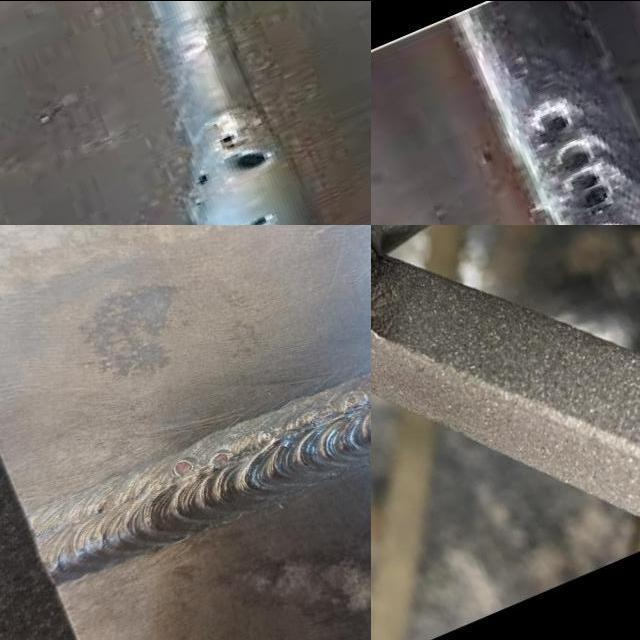defect: (528, 103, 620, 217), (217, 131, 273, 175), (183, 166, 217, 192), (164, 456, 194, 479), (305, 404, 332, 426), (206, 451, 234, 470), (340, 392, 362, 414), (245, 209, 276, 224), (91, 502, 106, 515)
